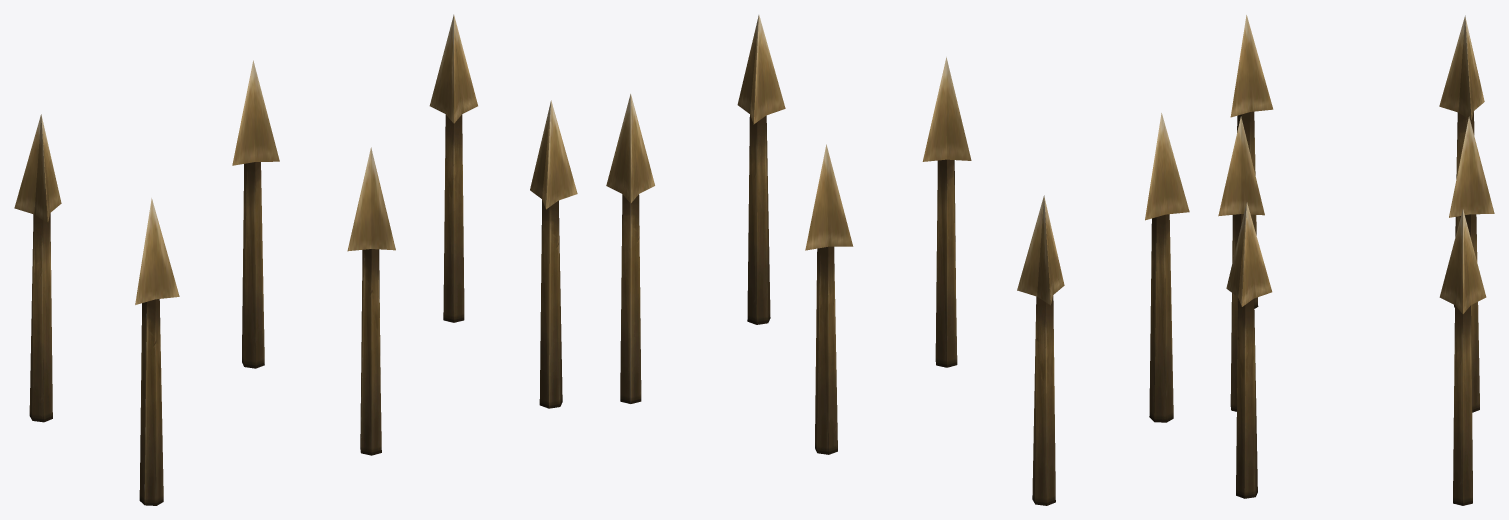
The model's file is fortress_runner_spikes_02.fbx.
The picture shows the model from 3 angles, left to right: view 1: azimuth 30°, elevation 25°; view 2: azimuth 150°, elevation 25°; view 3: azimuth 270°, elevation 25°; orthographic projection. The views are drawn at different scales.
Parts seen in each view (by area): view 1: fortress_spikes_mat; view 2: fortress_spikes_mat; view 3: fortress_spikes_mat.
Boxes of the visible parts, x1,y1,x2,y2 form: fortress_spikes_mat: (14,14,577,505); fortress_spikes_mat: (606,15,1189,505); fortress_spikes_mat: (1218,15,1494,505).
Bounding box in the file's own units: 2.98 × 1.88 × 1.61.
